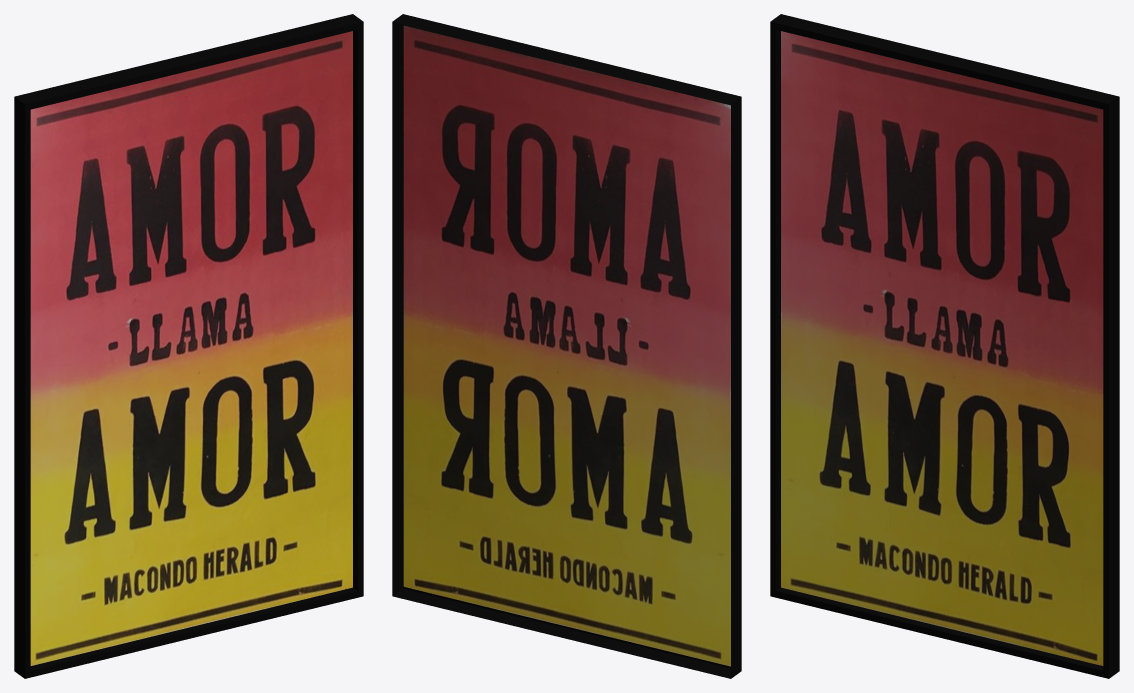
File: FrameAmorLlamaAmor.glb
The picture shows the model from 3 angles, left to right: view 1: azimuth 30°, elevation 25°; view 2: azimuth 150°, elevation 25°; view 3: azimuth 330°, elevation 25°; orthographic projection.
Visible parts, largest first — view 1: FrameAmorLlamaAmor; view 2: FrameAmorLlamaAmor; view 3: FrameAmorLlamaAmor.
Part boxes in pixels (x1=…): FrameAmorLlamaAmor: x1=14, y1=14, x2=363, y2=678; FrameAmorLlamaAmor: x1=392, y1=14, x2=741, y2=678; FrameAmorLlamaAmor: x1=770, y1=14, x2=1119, y2=678.
Size of the model in its own units: 7.5 by 12.17 by 0.4055.
2 materials, 1 textured.
